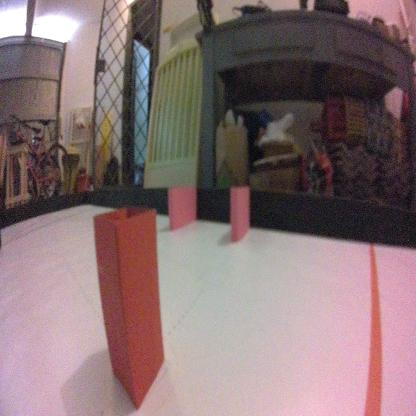magenta: (228, 183, 252, 246), (168, 183, 198, 231)
red: (93, 206, 168, 416)
